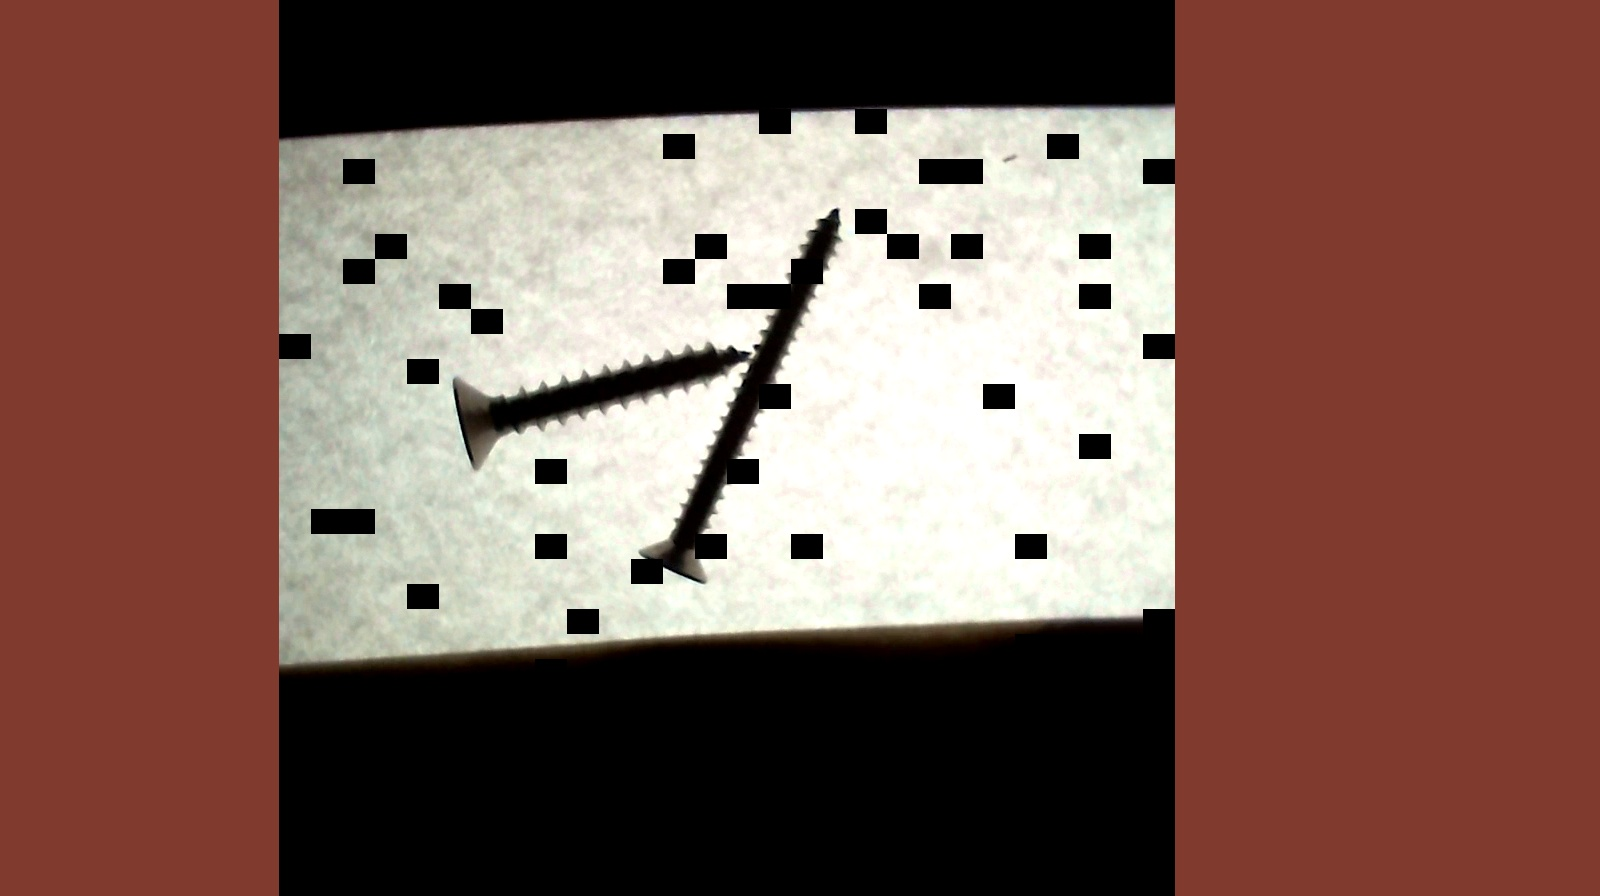S001: (446, 330, 756, 473)
S002: (634, 204, 845, 591)
